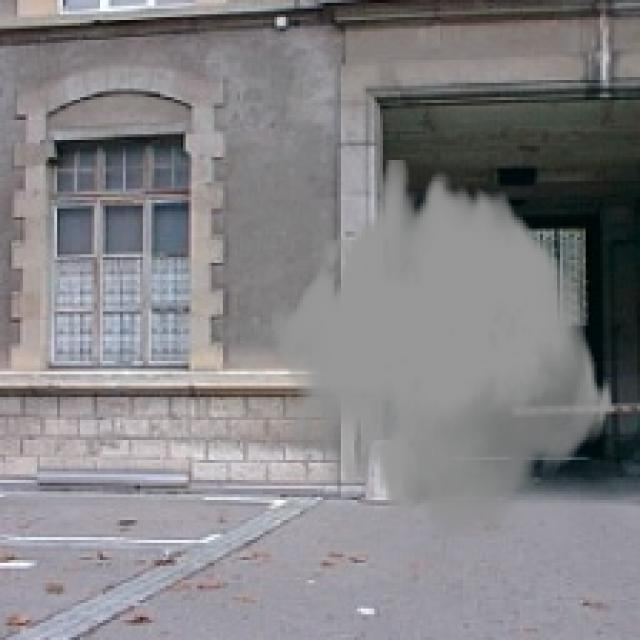smoke: (269, 160, 614, 537)
